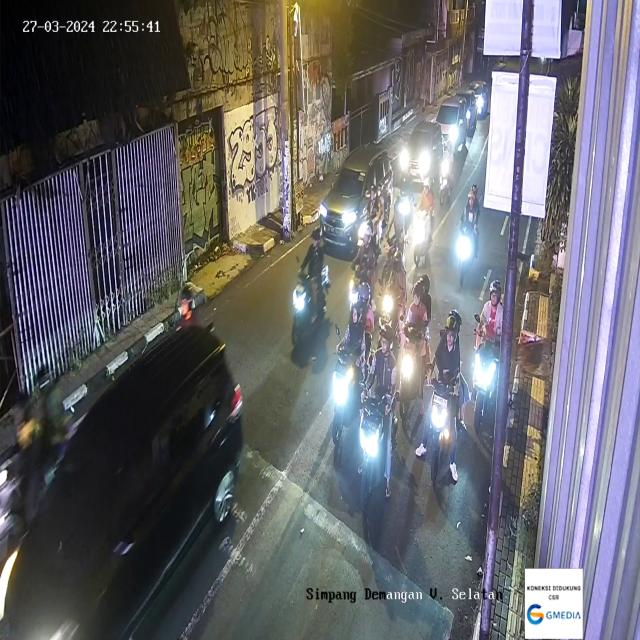car: (1, 323, 246, 640), (324, 143, 391, 242), (401, 124, 441, 184), (435, 98, 470, 156)
motorcycle: (424, 304, 466, 480), (361, 323, 398, 510), (330, 298, 375, 444), (287, 229, 327, 346), (402, 276, 434, 418), (475, 286, 506, 430), (350, 225, 377, 315), (457, 182, 481, 274), (411, 182, 433, 272)
